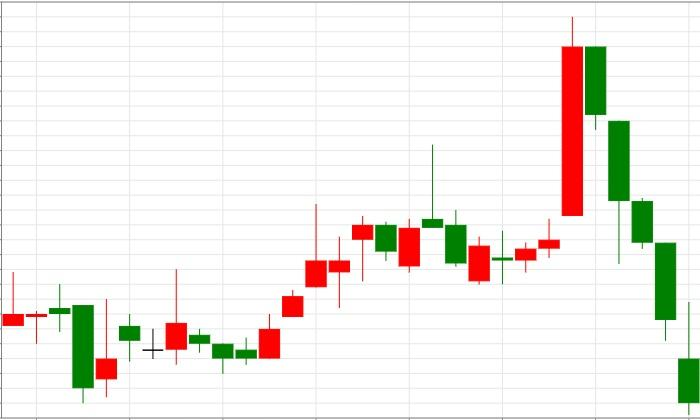three_black_crows_fall: (468, 16, 653, 285)
